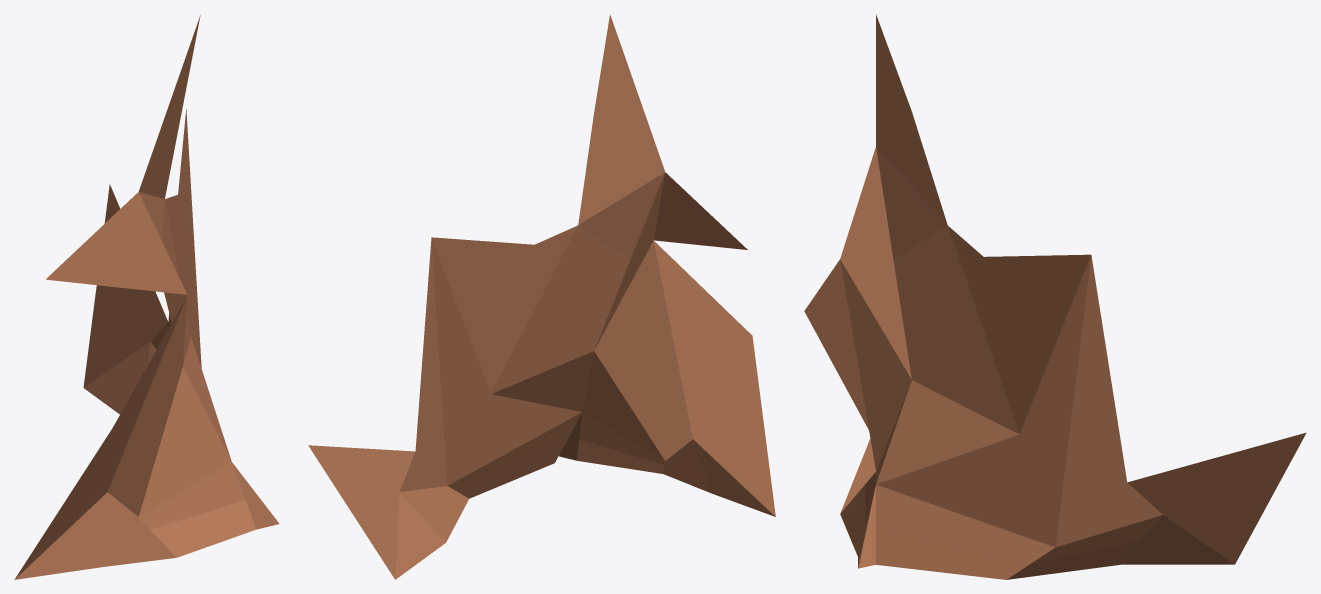
Rendered from Corner Bottom Interior E.fbx.
3 renders of one model, left to right at view 1: azimuth 30°, elevation 25°; view 2: azimuth 150°, elevation 25°; view 3: azimuth 270°, elevation 25°, orthographic. The views are drawn at different scales.
Visible parts, largest first — view 1: Corner Bottom Interior E; view 2: Corner Bottom Interior E; view 3: Corner Bottom Interior E.
Part boxes in pixels (x1,y1,x2,y2): Corner Bottom Interior E: [14, 15, 279, 579]; Corner Bottom Interior E: [308, 14, 775, 579]; Corner Bottom Interior E: [804, 14, 1306, 579].
Bounding box in the file's own units: 50 × 80 × 70.
